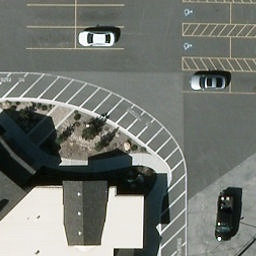car: (188, 73, 229, 91), (77, 33, 117, 47)
pickup: (215, 193, 236, 242)
